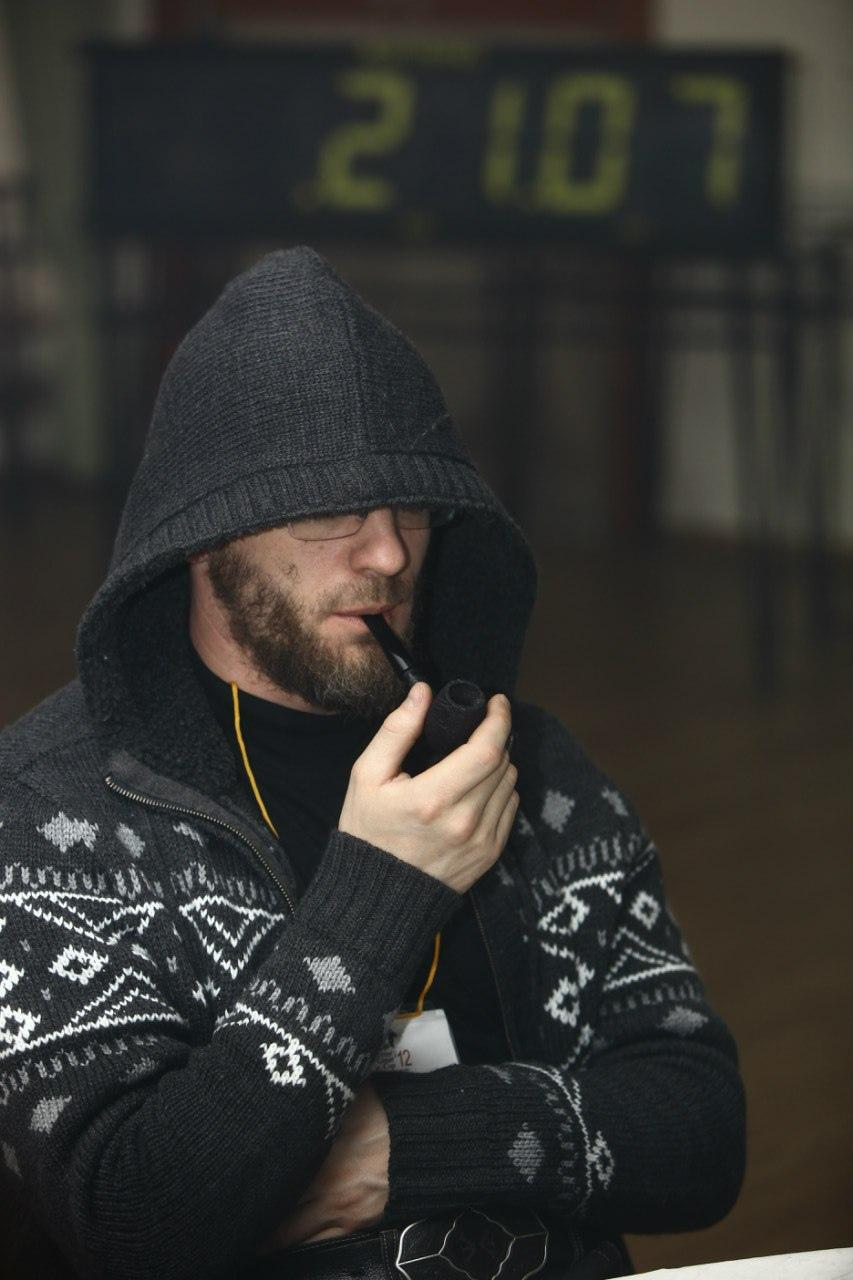trubka: (362, 611, 487, 752)
